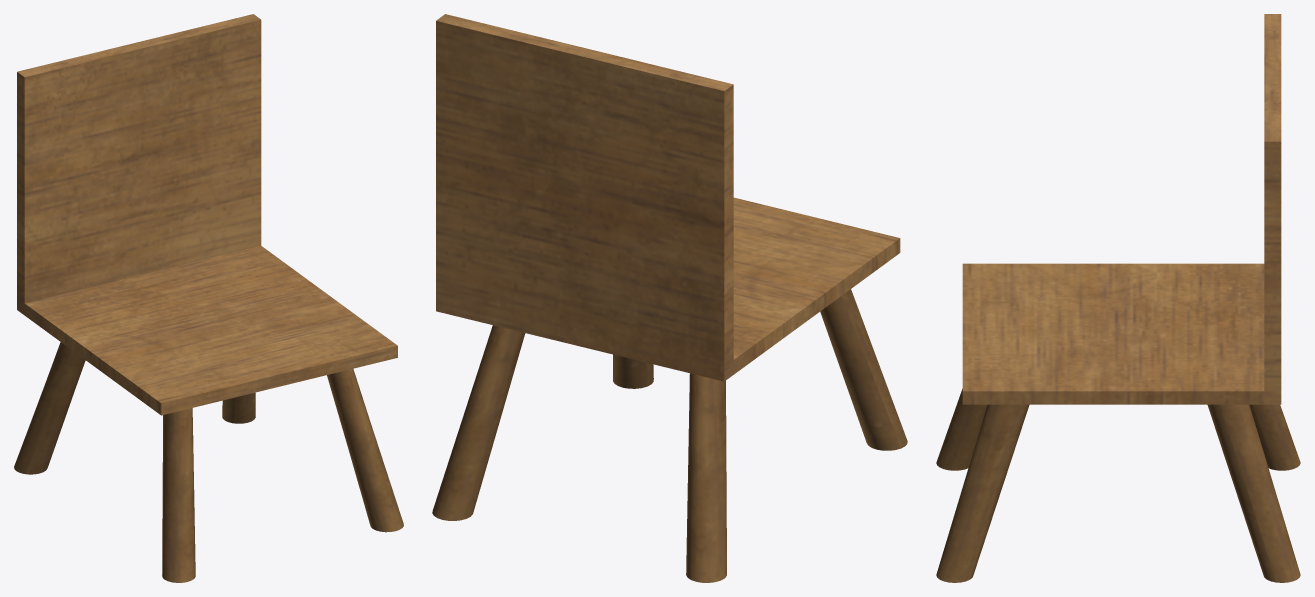
Rendered from Casino_Chair_low Textured.fbx.
3 renders of one model, left to right at view 1: azimuth 30°, elevation 25°; view 2: azimuth 150°, elevation 25°; view 3: azimuth 270°, elevation 25°, orthographic. The views are drawn at different scales.
Visible parts, largest first — view 1: Chair_low; view 2: Chair_low; view 3: Chair_low.
Boxes of the visible parts, x1,y1,x2,y2 form: Chair_low: (14, 14, 403, 582); Chair_low: (432, 14, 907, 582); Chair_low: (936, 14, 1300, 582).
Bounding box in the file's own units: 1.47 × 2.37 × 1.77.
